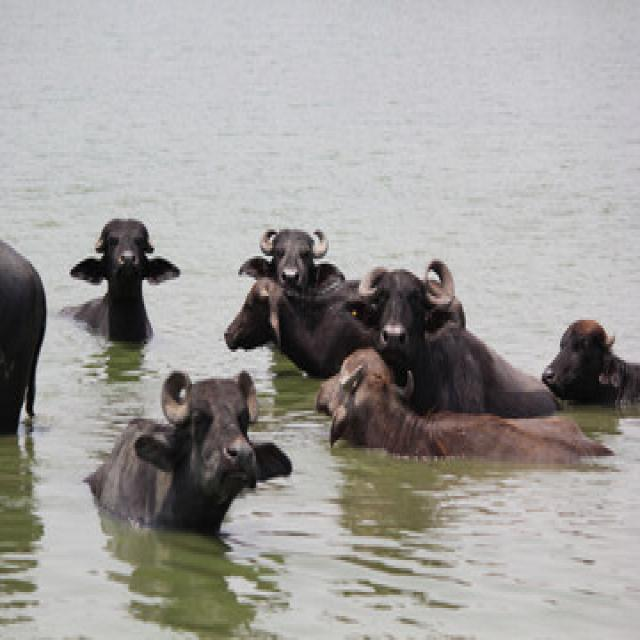Buffalo: (91, 367, 293, 539), (71, 214, 181, 335)
